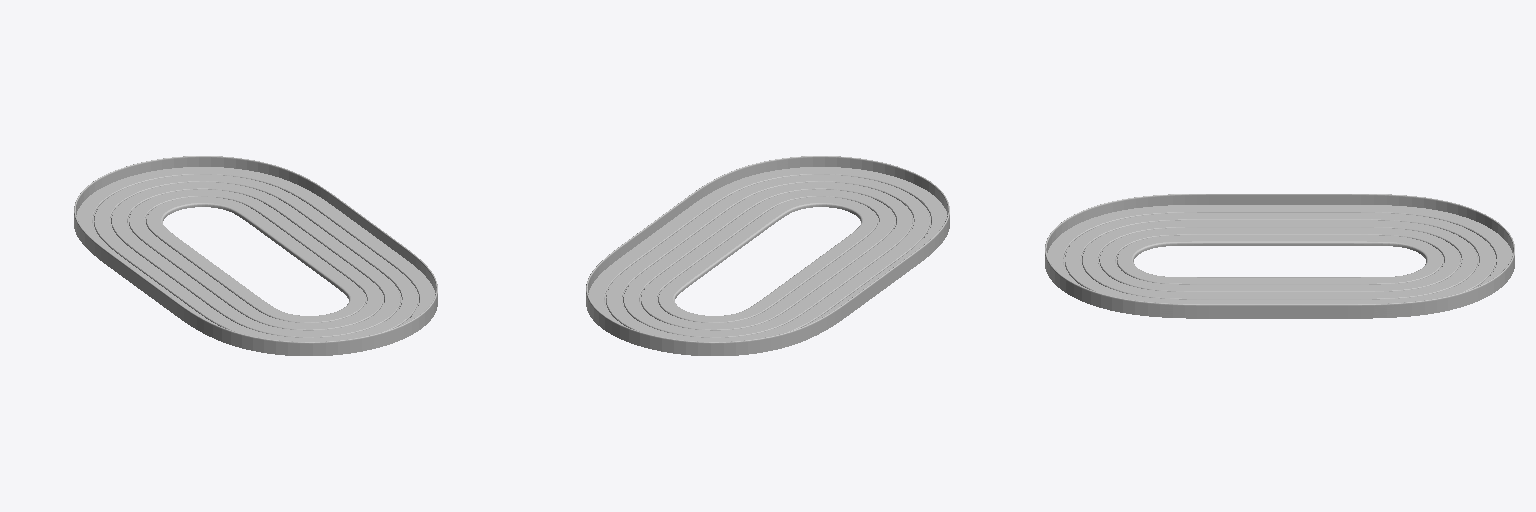
The model's file is track.obj.
3 renders of one model, left to right at view 1: azimuth 30°, elevation 25°; view 2: azimuth 150°, elevation 25°; view 3: azimuth 270°, elevation 25°, orthographic.
Parts seen in each view (by area): view 1: 10605_Slot_Car_Race_Track_v1_L3; view 2: 10605_Slot_Car_Race_Track_v1_L3; view 3: 10605_Slot_Car_Race_Track_v1_L3.
Boxes of the visible parts, box(x1,y1,x2,y2) form: 10605_Slot_Car_Race_Track_v1_L3: box(74, 156, 437, 355); 10605_Slot_Car_Race_Track_v1_L3: box(586, 156, 949, 355); 10605_Slot_Car_Race_Track_v1_L3: box(1045, 194, 1514, 318).
Size of the model in its own units: 68 by 3.98 by 121.